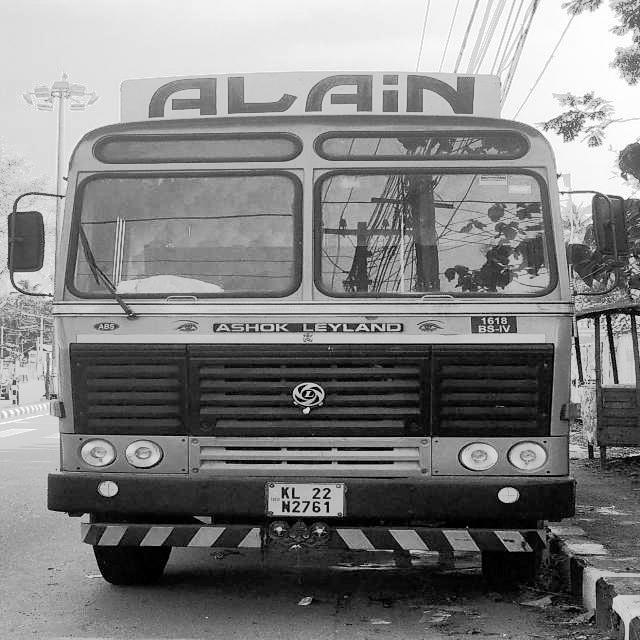HCV: (60, 118, 578, 581)
